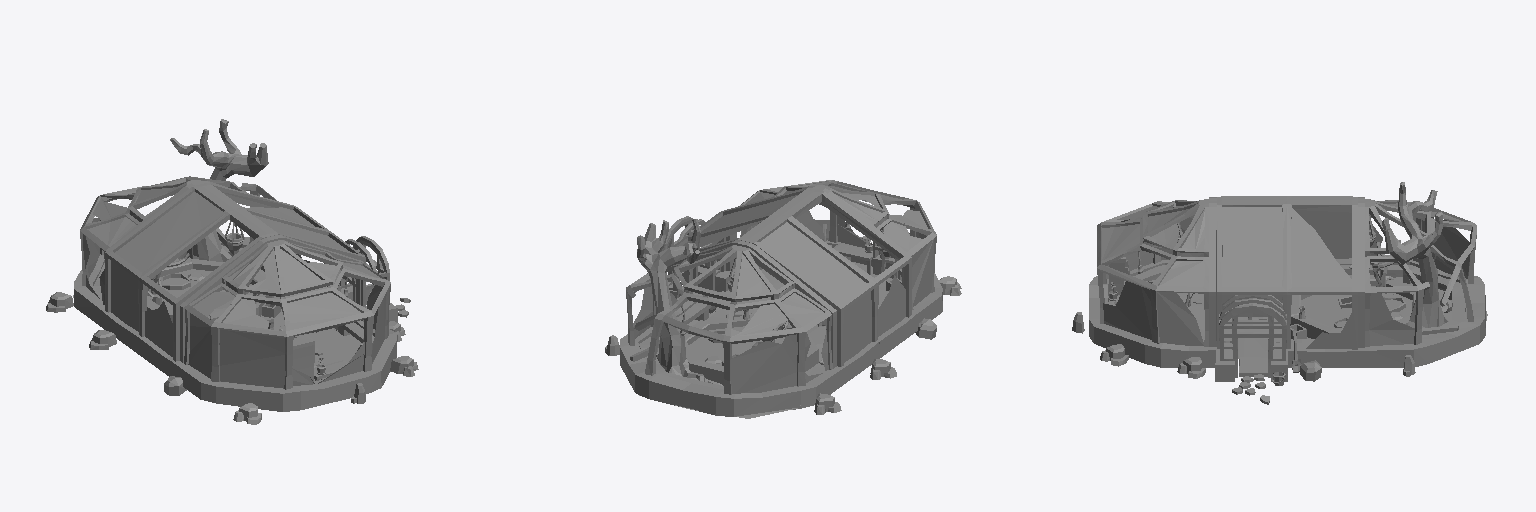
File: Invernadero.obj
3 views of the same model, side by side, from view 1: azimuth 30°, elevation 25°; view 2: azimuth 150°, elevation 25°; view 3: azimuth 270°, elevation 25° (orthographic).
Parts seen in each view (by area): view 1: Cube_042, Cube_037, Cube_001, Cube_007, Circle_001, Cube_002, Cube_003, Cube_004, Circle, Plane, Cube_005, Cube_009; view 2: Cube_042, Cube_002, Cube_004, Cube_001, Circle_001, Cube_037, Circle, Cube_007, Cube_003, Plane, Cube_006, Cube_005; view 3: Cube_042, Cube_001, Cube_004, Cube_037, Cube_002, Cube_007, Circle_001, Cube_005, Circle, Cube_003, Plane, Cube_006 (+1 smaller).
Part boxes in pixels (bbox=[...]): Cube_042: bbox=[83, 187, 386, 388]; Cube_037: bbox=[184, 240, 390, 389]; Cube_001: bbox=[105, 183, 365, 361]; Cube_007: bbox=[137, 286, 397, 411]; Circle_001: bbox=[170, 119, 268, 261]; Cube_002: bbox=[80, 176, 276, 304]; Cube_003: bbox=[105, 181, 365, 362]; Cube_004: bbox=[74, 237, 249, 352]; Circle: bbox=[147, 257, 273, 322]; Plane: bbox=[73, 269, 361, 364]; Cube_005: bbox=[337, 236, 389, 302]; Cube_009: bbox=[292, 335, 314, 381]; Cube_042: bbox=[633, 186, 933, 393]; Cube_002: bbox=[626, 245, 832, 394]; Cube_004: bbox=[620, 296, 879, 416]; Cube_001: bbox=[673, 188, 911, 366]; Circle_001: bbox=[637, 219, 716, 383]; Cube_037: bbox=[735, 180, 936, 309]; Circle: bbox=[684, 315, 818, 385]; Cube_007: bbox=[669, 240, 942, 357]; Cube_003: bbox=[656, 186, 911, 368]; Plane: bbox=[639, 269, 888, 418]; Cube_006: bbox=[639, 302, 823, 389]; Cube_005: bbox=[661, 216, 721, 291]; Cube_042: bbox=[1102, 203, 1469, 348]; Cube_001: bbox=[1216, 196, 1357, 349]; Cube_004: bbox=[1287, 255, 1485, 367]; Cube_037: bbox=[1097, 199, 1208, 346]; Cube_002: bbox=[1364, 199, 1476, 346]; Cube_007: bbox=[1089, 260, 1287, 381]; Circle_001: bbox=[1382, 182, 1448, 327]; Cube_005: bbox=[1219, 295, 1286, 377]; Circle: bbox=[1290, 275, 1415, 338]; Cube_003: bbox=[1209, 197, 1364, 347]; Plane: bbox=[1152, 277, 1487, 358]; Cube_006: bbox=[1291, 265, 1465, 343].
Size of the model in its own units: 16116 by 8290 by 19629.